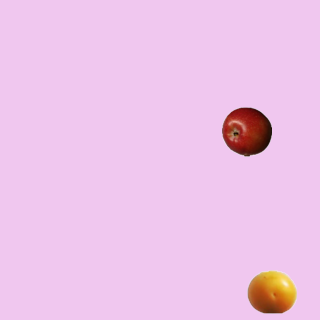Apple Braeburn: (221, 106, 271, 156)
Cherry Wax Yellow: (246, 266, 296, 316)
